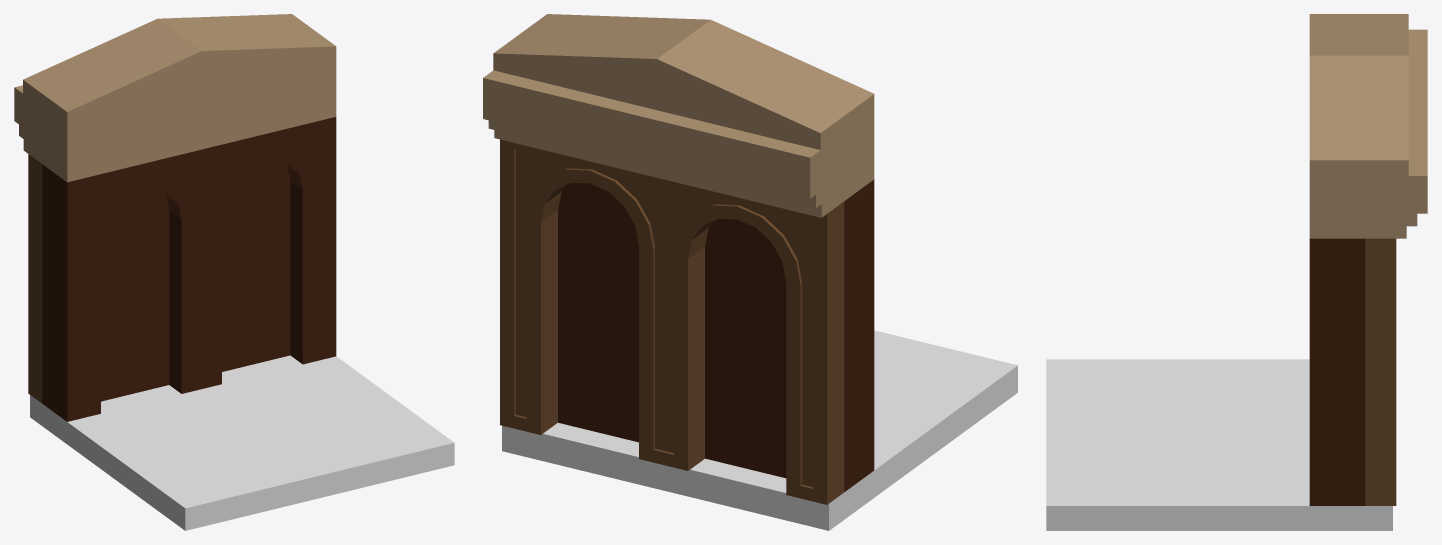
Rendered from tile1wallC.fbx.
3 views of the same model, side by side, from view 1: azimuth 30°, elevation 25°; view 2: azimuth 150°, elevation 25°; view 3: azimuth 270°, elevation 25° (orthographic). The views are drawn at different scales.
Visible parts, largest first — view 1: Cube, Cube.005, Cube.003, Cube.001, Cube.002; view 2: Cube.002, Cube.003, Cube.001, Cube, Cube.005; view 3: Cube, Cube.003, Cube.002, Cube.001, Cube.005.
Part boxes in pixels (box(x1,y1,x2,y2)): Cube: box(30, 355, 454, 530); Cube.005: box(54, 117, 336, 421); Cube.003: box(14, 14, 336, 182); Cube.001: box(42, 157, 290, 412); Cube.002: box(28, 154, 42, 403); Cube.002: box(500, 139, 844, 504); Cube.003: box(483, 14, 874, 217); Cube.001: box(558, 183, 859, 491); Cube: box(502, 330, 1017, 530); Cube.005: box(859, 179, 874, 480); Cube: box(1046, 359, 1392, 530); Cube.003: box(1309, 14, 1427, 238); Cube.002: box(1365, 238, 1396, 505); Cube.001: box(1337, 238, 1365, 505); Cube.005: box(1309, 238, 1337, 505).
Bounding box in the file's own units: 500 × 640 × 550.
